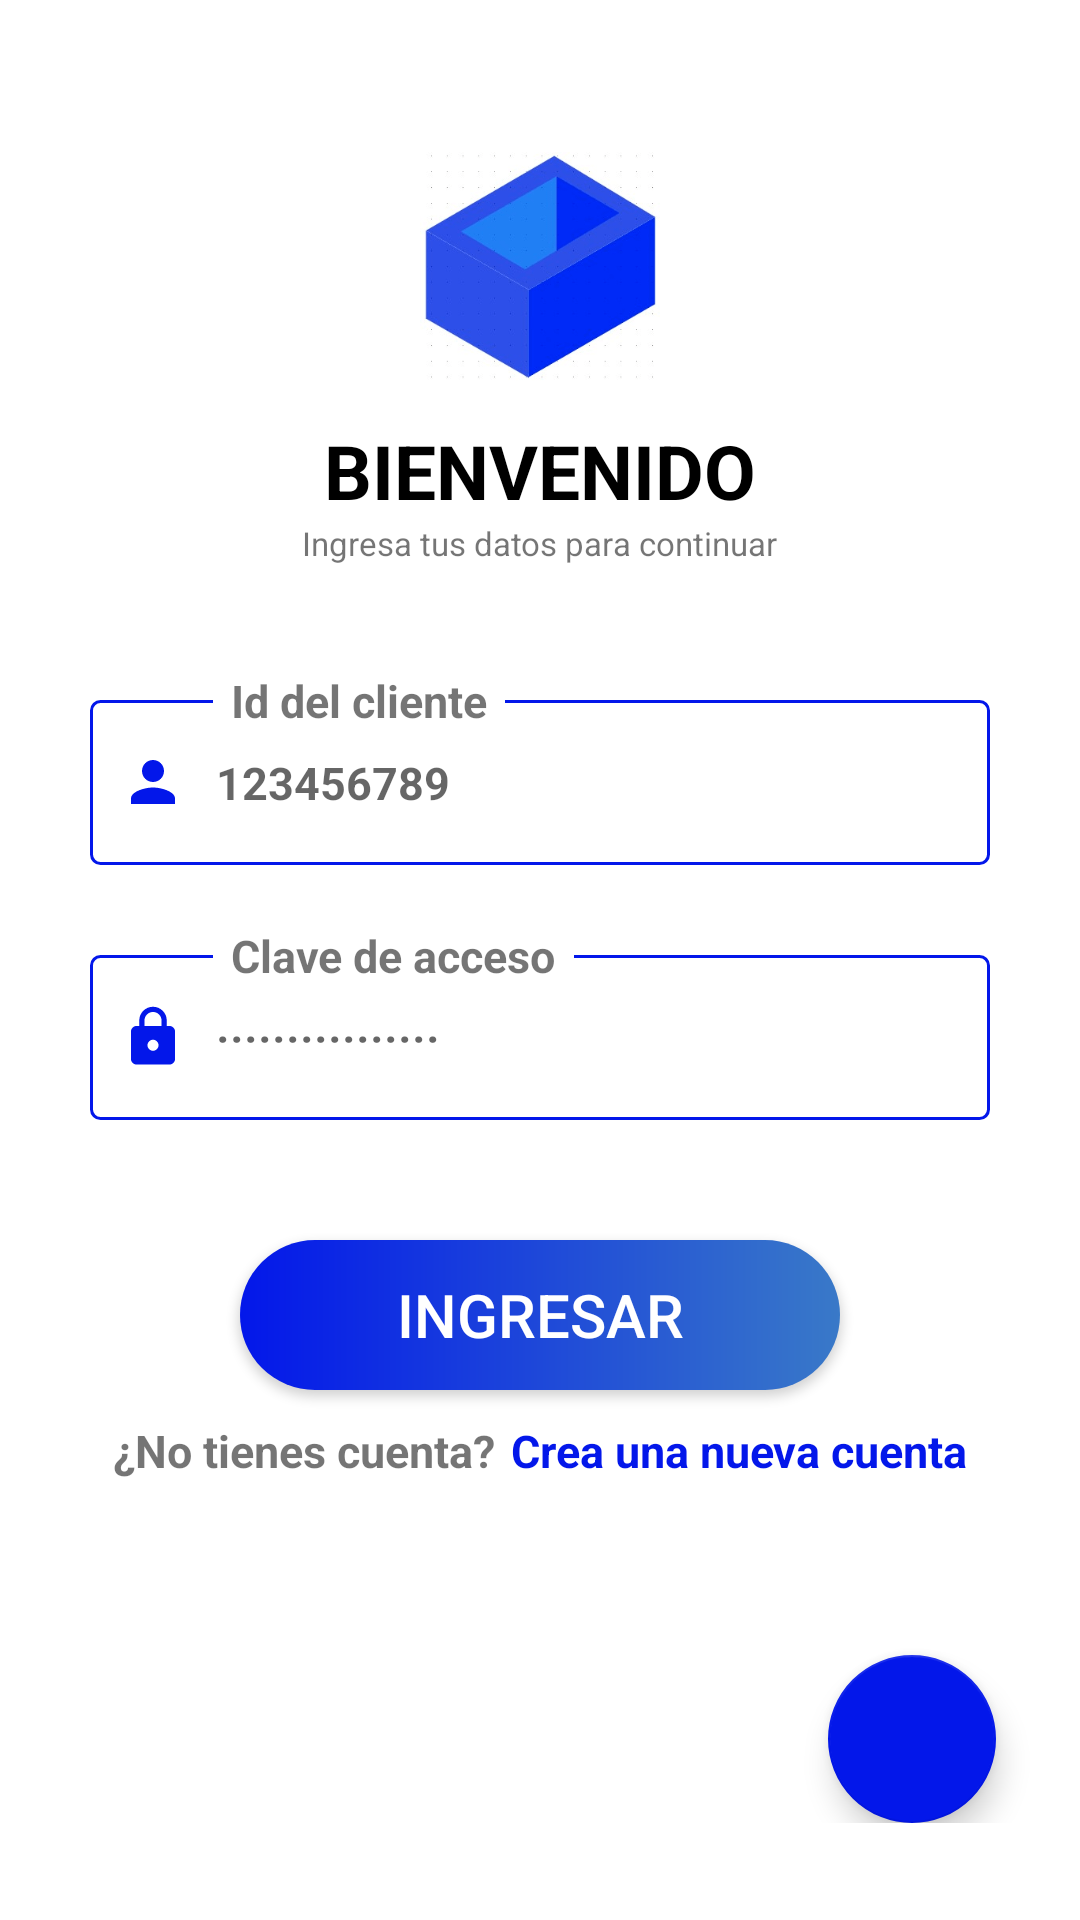

Locate icon controls on the screen. Image size 1080px x 1920px, boxes as (x1, y1, x2, y2).
clave quickcellar: (131, 1006, 175, 1065)
idcliente: (131, 760, 175, 804)
